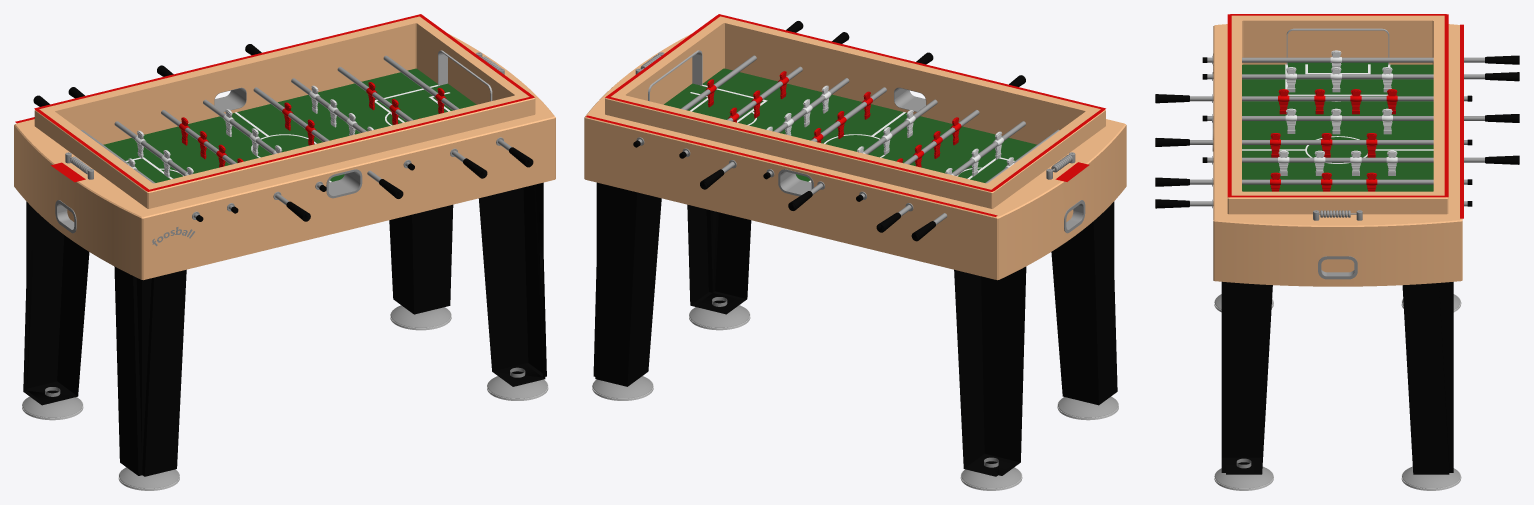
The model's file is Foosball_table.fbx.
3 renders of one model, left to right at view 1: azimuth 30°, elevation 25°; view 2: azimuth 150°, elevation 25°; view 3: azimuth 270°, elevation 25°, orthographic. The views are drawn at different scales.
Parts seen in each view (by area): view 1: Plane002; view 2: Plane002; view 3: Plane002.
Part boxes in pixels (left/top/right/bottom): Plane002: left=14, top=14, right=555, bottom=490; Plane002: left=584, top=14, right=1126, bottom=490; Plane002: left=1155, top=14, right=1519, bottom=490.
Bounding box in the file's own units: 137 × 87.09 × 101.
